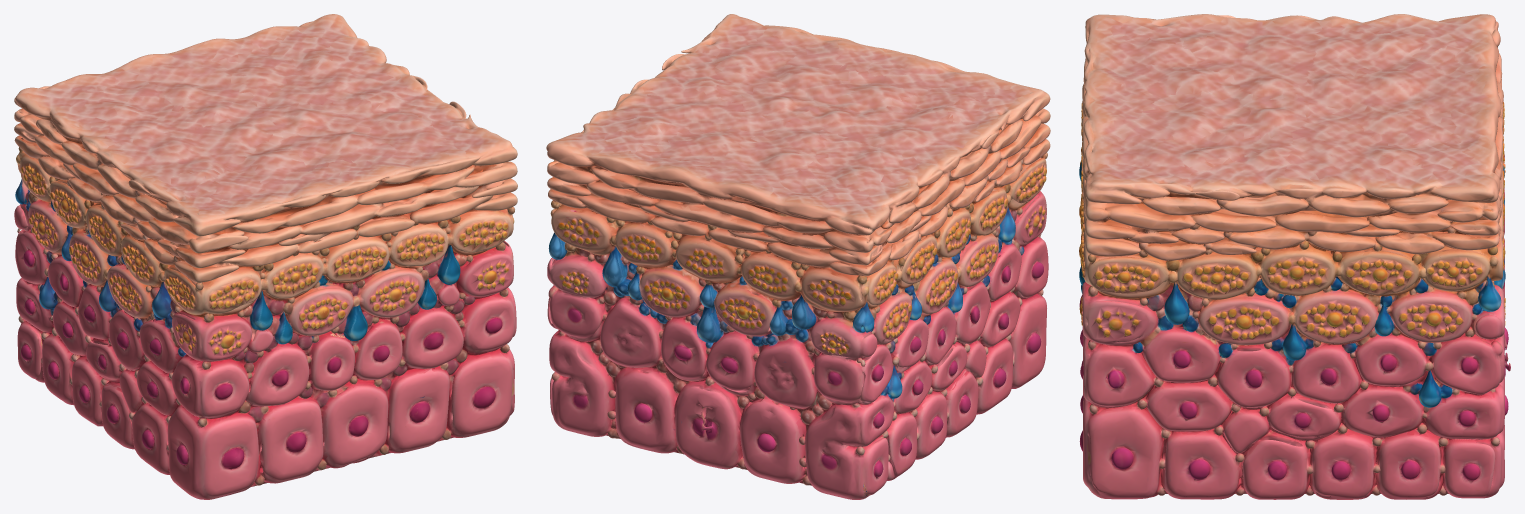
The model's file is skin-healthy.glb.
3 renders of one model, left to right at view 1: azimuth 30°, elevation 25°; view 2: azimuth 150°, elevation 25°; view 3: azimuth 270°, elevation 25°, orthographic. The views are drawn at different scales.
Parts seen in each view (by area): view 1: Skin Healthy; view 2: Skin Healthy; view 3: Skin Healthy.
Part boxes in pixels (left/top/right/bottom): Skin Healthy: left=14, top=14, right=517, bottom=499; Skin Healthy: left=546, top=14, right=1050, bottom=499; Skin Healthy: left=1079, top=14, right=1510, bottom=499.
Bounding box in the file's own units: 0.4757 × 0.3993 × 0.4823.
Materials: 1 (1 with a texture image).
